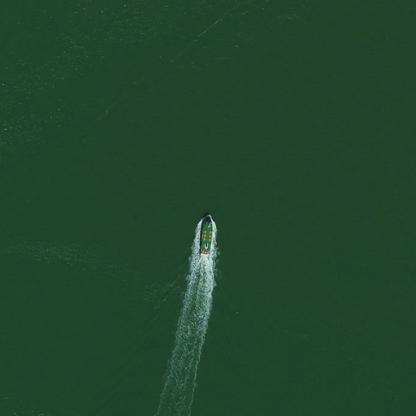ship: (186, 204, 226, 260)
